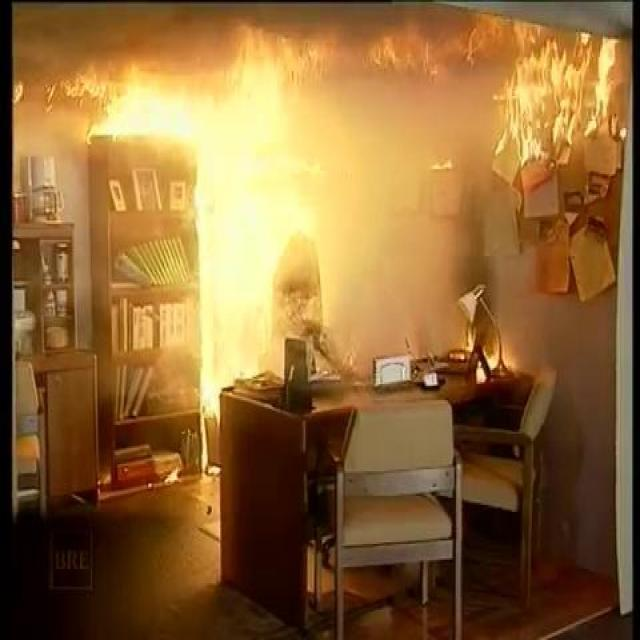Fire: (71, 54, 338, 357), (490, 12, 628, 180)
